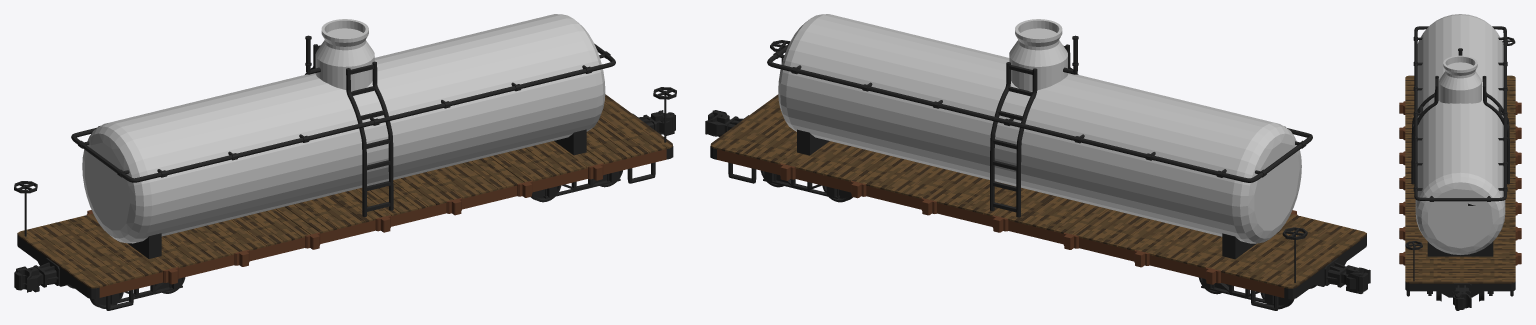
Rendered from tankcar.obj.
The picture shows the model from 3 angles, left to right: view 1: azimuth 30°, elevation 25°; view 2: azimuth 150°, elevation 25°; view 3: azimuth 270°, elevation 25°; orthographic projection. The views are drawn at different scales.
Parts seen in each view (by area): view 1: Cylinder, Cube.066_Cube.068, SHELL.001_Cube.005_SHELL.001_Cube.034, NurbsPath.002, Cylinder.001_Cylinder.002, Cube.002_Cube.018, FRAME.004_Cube.018_FRAME.004_Cube.000_FRAME.004_Cube.018_FR.000, Cube_Cube.001, FRAME_Cube.005_Cube.019, HANDBRAKE_Circle.000, FRAME.004_Cube.018_FRAME.004_Cube.000_FRAME.004_Cube.018_FR.020, BOGEY_REAR (+2 smaller); view 2: Cylinder, Cube.066_Cube.068, SHELL.001_Cube.005_SHELL.001_Cube.034, NurbsPath.002, Cylinder.001_Cylinder.002, Cube.002_Cube.018, FRAME.004_Cube.018_FRAME.004_Cube.000_FRAME.004_Cube.018_FR.000, Cube_Cube.001, FRAME_Cube.005_Cube.019, FRAME.004_Cube.018_FRAME.004_Cube.000_FRAME.004_Cube.018_FR.020, BOGEY_REAR, BOGEY_FRONT (+2 smaller); view 3: Cylinder, Cube.066_Cube.068, NurbsPath.002, Cylinder.001_Cylinder.002, SHELL.001_Cube.005_SHELL.001_Cube.034, Cube.002_Cube.018, FRAME_Cube.005_Cube.019, Cube_Cube.001, FRAME.004_Cube.018_FRAME.004_Cube.000_FRAME.004_Cube.018_FR.000, HANDBRAKE_Circle.000, FRAME.004_Cube.018_FRAME.004_Cube.000_FRAME.004_Cube.018_FR.020, BOGEY_REAR_WHEEL_2_Cube.059.
Boxes of the visible parts, x1,y1,x2,y2 form: Cylinder: (82, 14, 605, 243); Cube.066_Cube.068: (17, 94, 672, 288); SHELL.001_Cube.005_SHELL.001_Cube.034: (86, 149, 666, 297); NurbsPath.002: (71, 43, 615, 182); Cylinder.001_Cylinder.002: (315, 19, 374, 90); Cube.002_Cube.018: (305, 44, 393, 216); FRAME.004_Cube.018_FRAME.004_Cube.000_FRAME.004_Cube.018_FR.000: (14, 110, 675, 292); Cube_Cube.001: (127, 129, 586, 258); FRAME_Cube.005_Cube.019: (17, 146, 673, 299); HANDBRAKE_Circle.000: (14, 87, 676, 236); FRAME.004_Cube.018_FRAME.004_Cube.000_FRAME.004_Cube.018_FR.020: (33, 113, 656, 287); BOGEY_REAR: (543, 171, 620, 198); Cylinder: (778, 14, 1301, 243); Cube.066_Cube.068: (710, 94, 1366, 288); SHELL.001_Cube.005_SHELL.001_Cube.034: (717, 149, 1297, 297); NurbsPath.002: (767, 44, 1312, 182); Cylinder.001_Cylinder.002: (1009, 19, 1067, 90); Cube.002_Cube.018: (990, 44, 1078, 217); FRAME.004_Cube.018_FRAME.004_Cube.000_FRAME.004_Cube.018_FR.000: (705, 110, 1370, 293); Cube_Cube.001: (797, 129, 1256, 259); FRAME_Cube.005_Cube.019: (710, 146, 1366, 299); FRAME.004_Cube.018_FRAME.004_Cube.000_FRAME.004_Cube.018_FR.020: (724, 115, 1350, 287); BOGEY_REAR: (763, 171, 839, 198); BOGEY_FRONT: (1201, 278, 1273, 305); Cylinder: (1415, 14, 1505, 254); Cube.066_Cube.068: (1405, 75, 1515, 283); NurbsPath.002: (1413, 26, 1507, 201); Cylinder.001_Cylinder.002: (1439, 55, 1481, 103); SHELL.001_Cube.005_SHELL.001_Cube.034: (1399, 101, 1521, 265); Cube.002_Cube.018: (1411, 76, 1509, 184); FRAME_Cube.005_Cube.019: (1405, 282, 1515, 297); Cube_Cube.001: (1427, 203, 1493, 256); FRAME.004_Cube.018_FRAME.004_Cube.000_FRAME.004_Cube.018_FR.000: (1453, 291, 1471, 310); HANDBRAKE_Circle.000: (1405, 37, 1515, 281); FRAME.004_Cube.018_FRAME.004_Cube.000_FRAME.004_Cube.018_FR.020: (1452, 283, 1471, 297); BOGEY_REAR_WHEEL_2_Cube.059: (1436, 291, 1484, 301).
Size of the model in its own units: 18.99 by 5.74 by 4.22.
17 materials, 17 textured.
